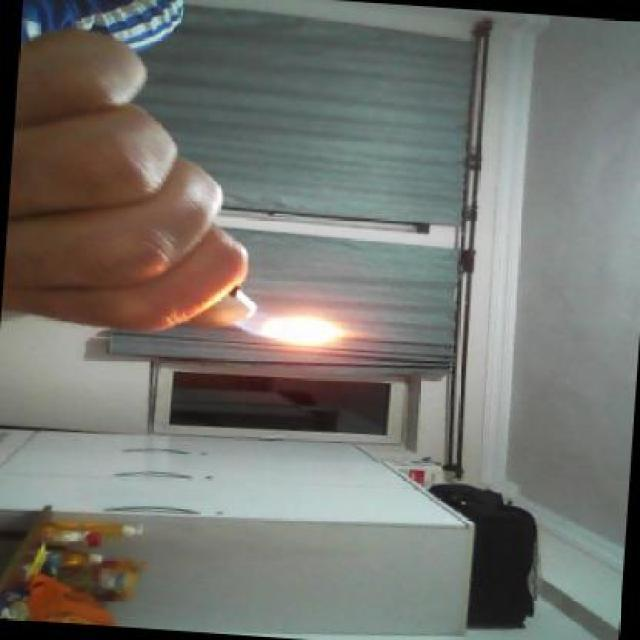Fire: (254, 313, 351, 356)
